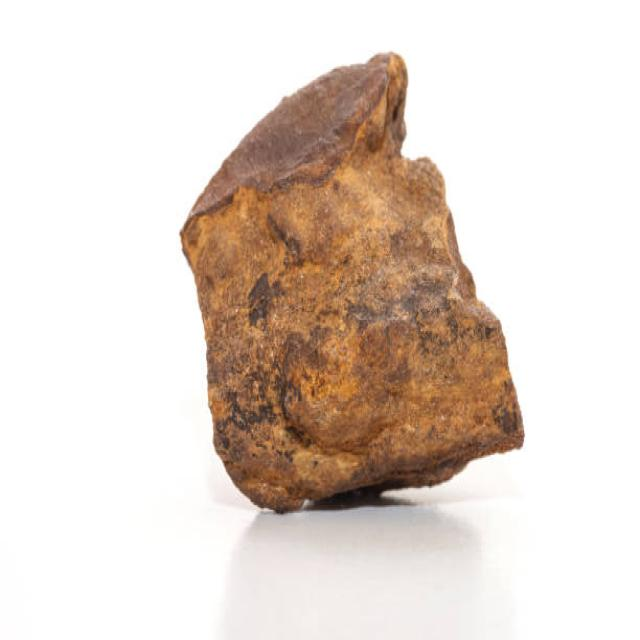Sedimentary: (173, 35, 531, 518)
